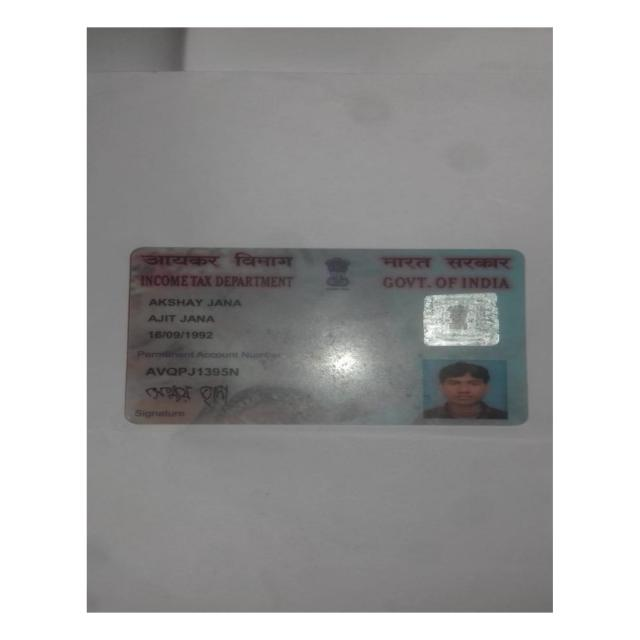pan_card: (125, 248, 529, 428)
